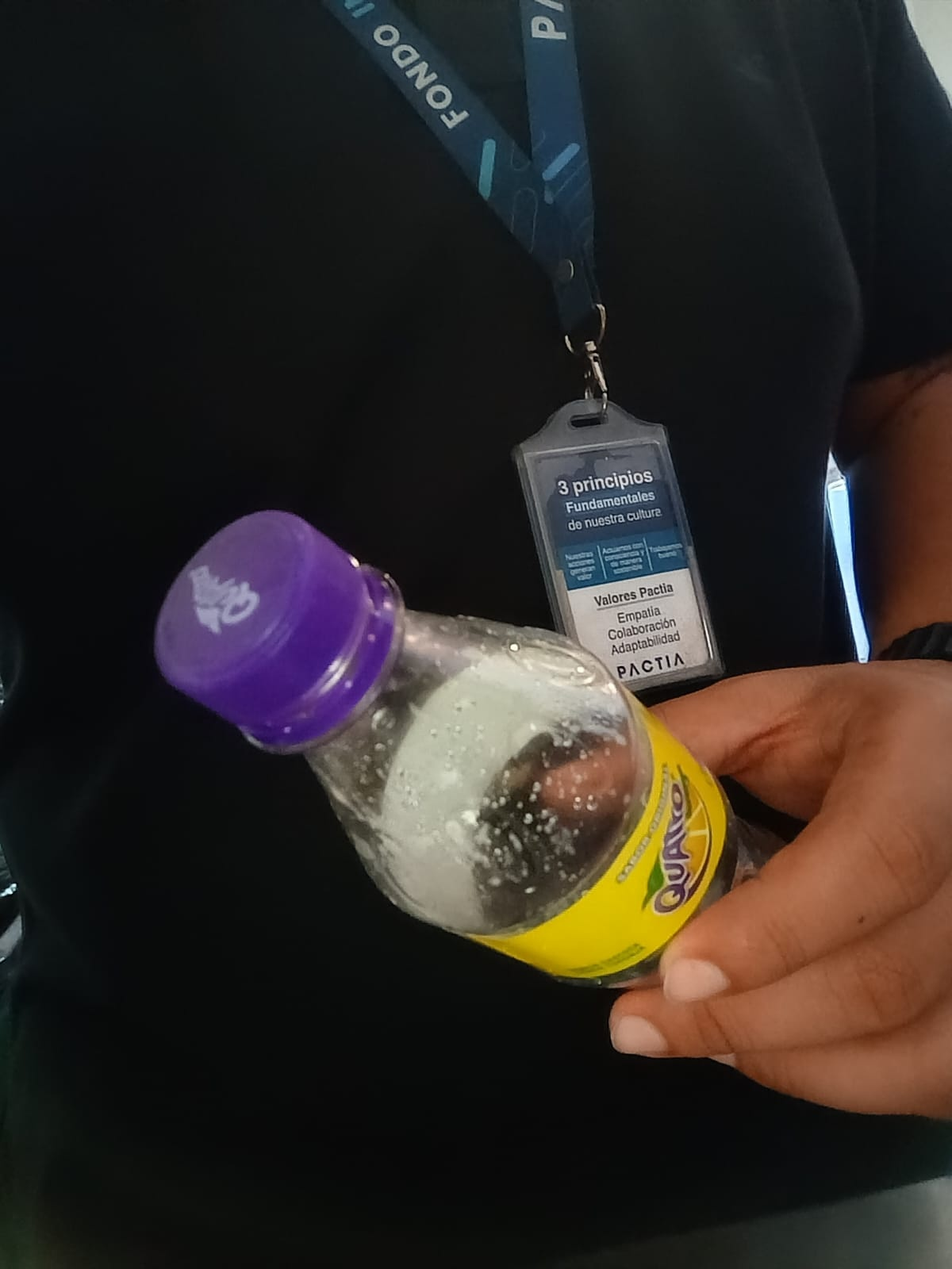Plastico: (152, 510, 781, 993)
